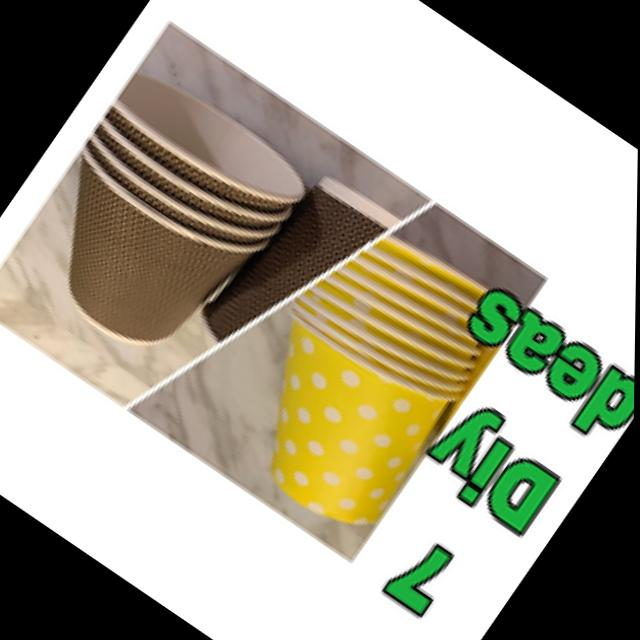paper_cups: (3, 59, 316, 378), (197, 284, 469, 550)
